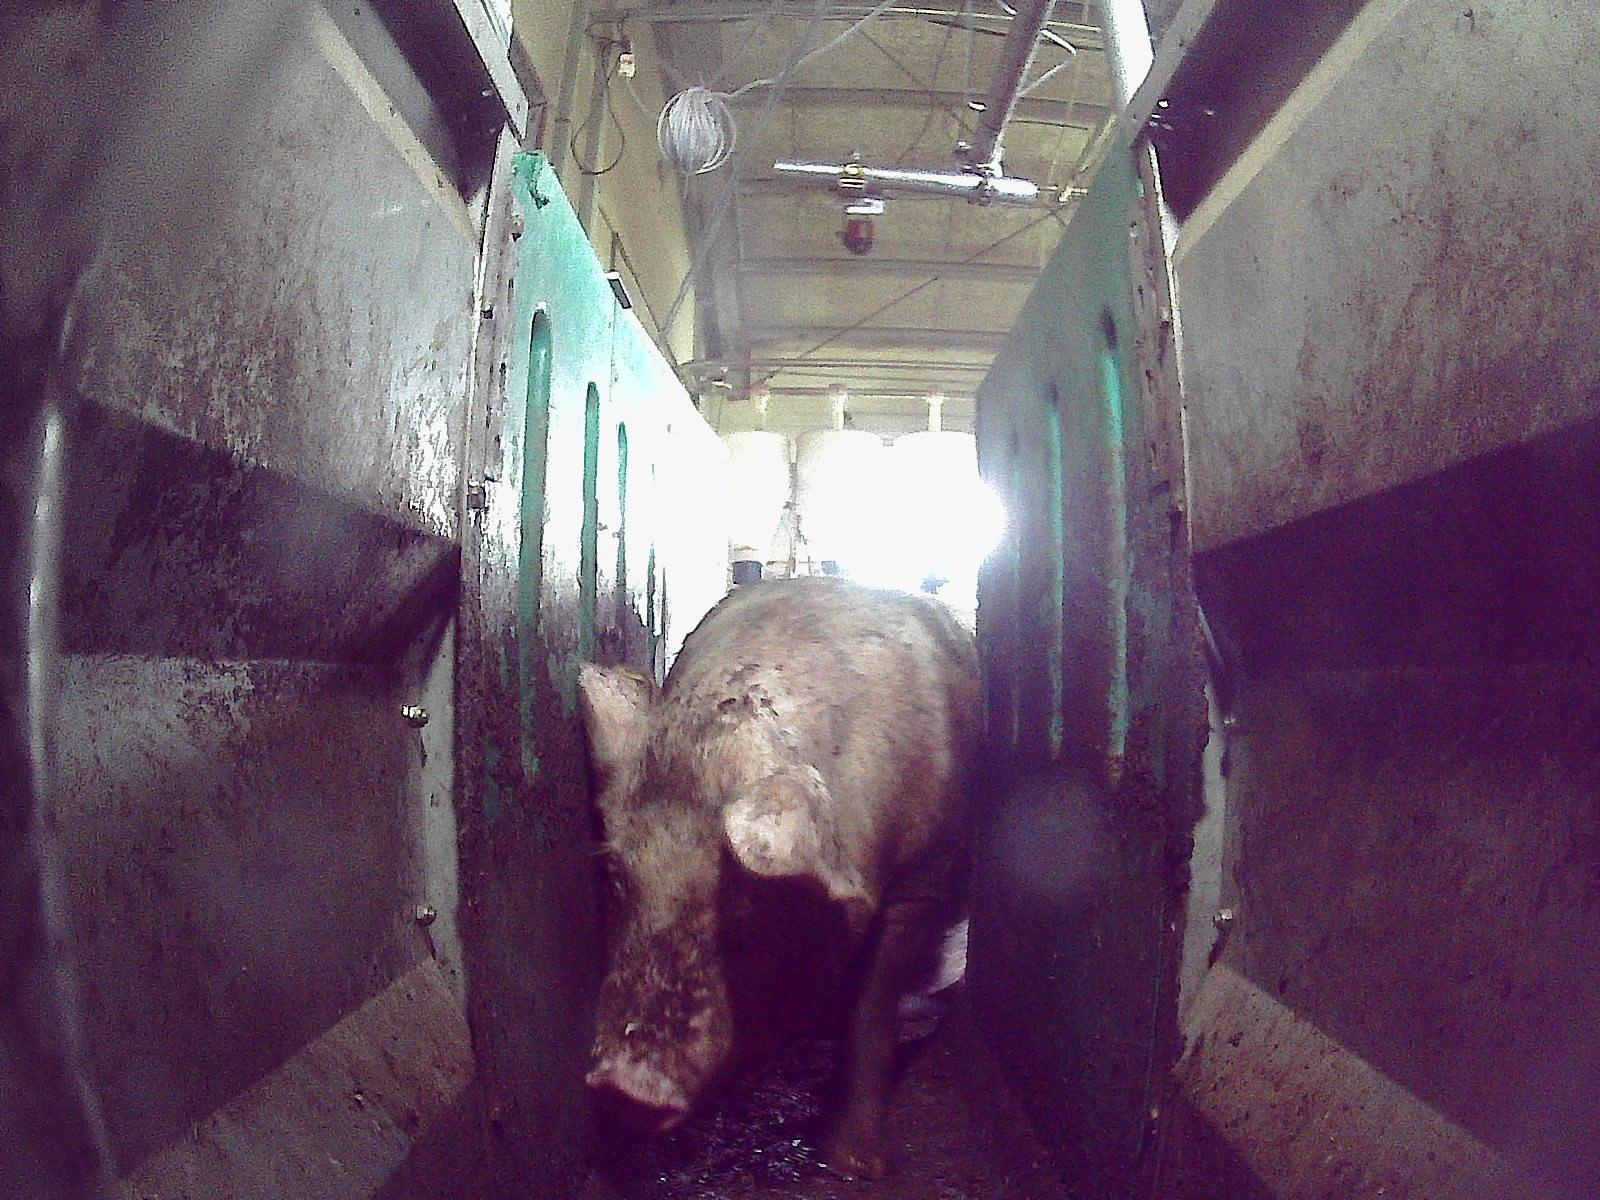Face: (588, 732, 806, 1137)
